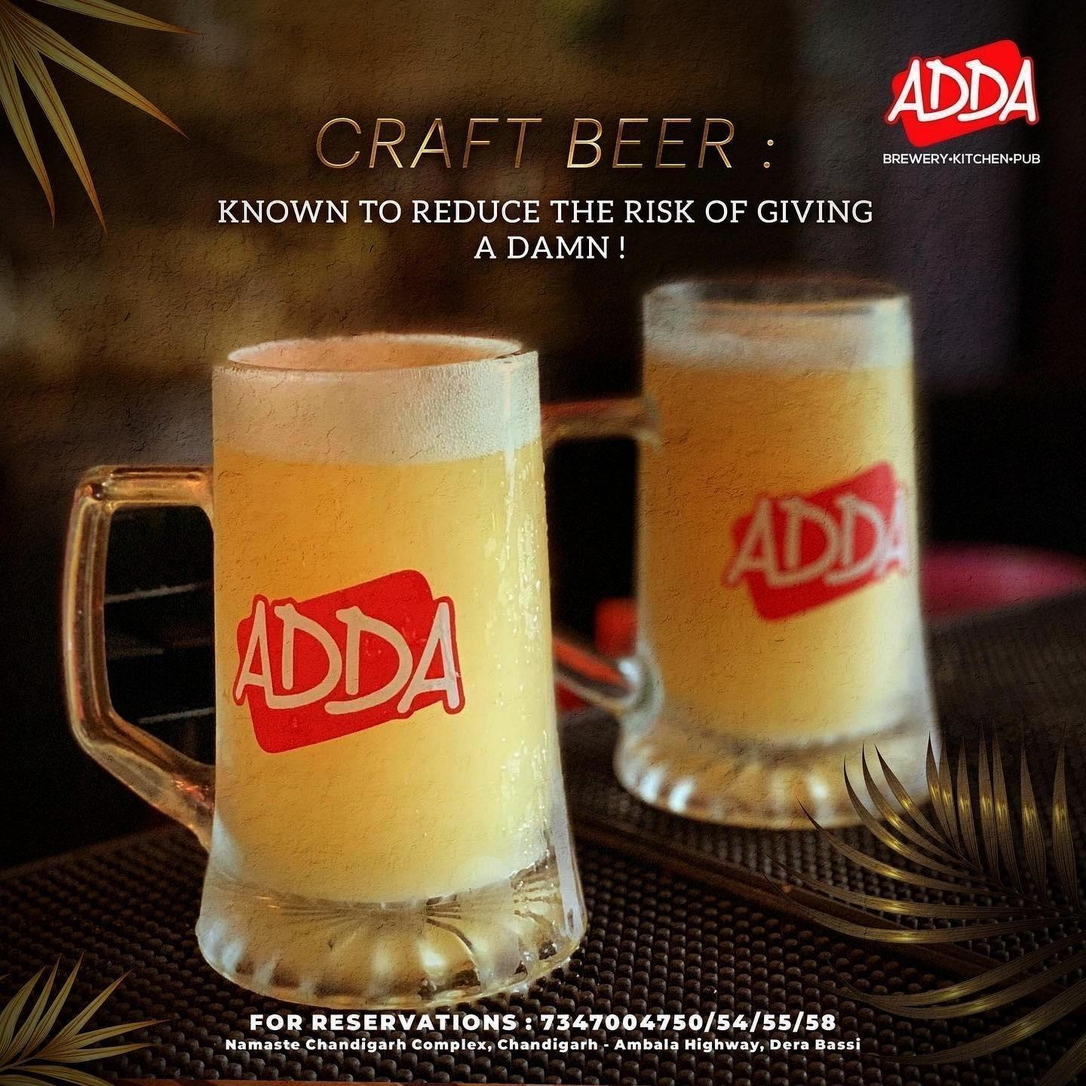glass-mug: (28, 313, 589, 1015), (557, 259, 954, 827)
